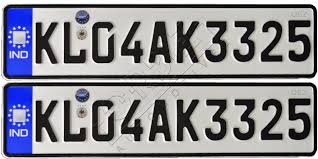inlp: (2, 3, 318, 81), (3, 81, 318, 158)
